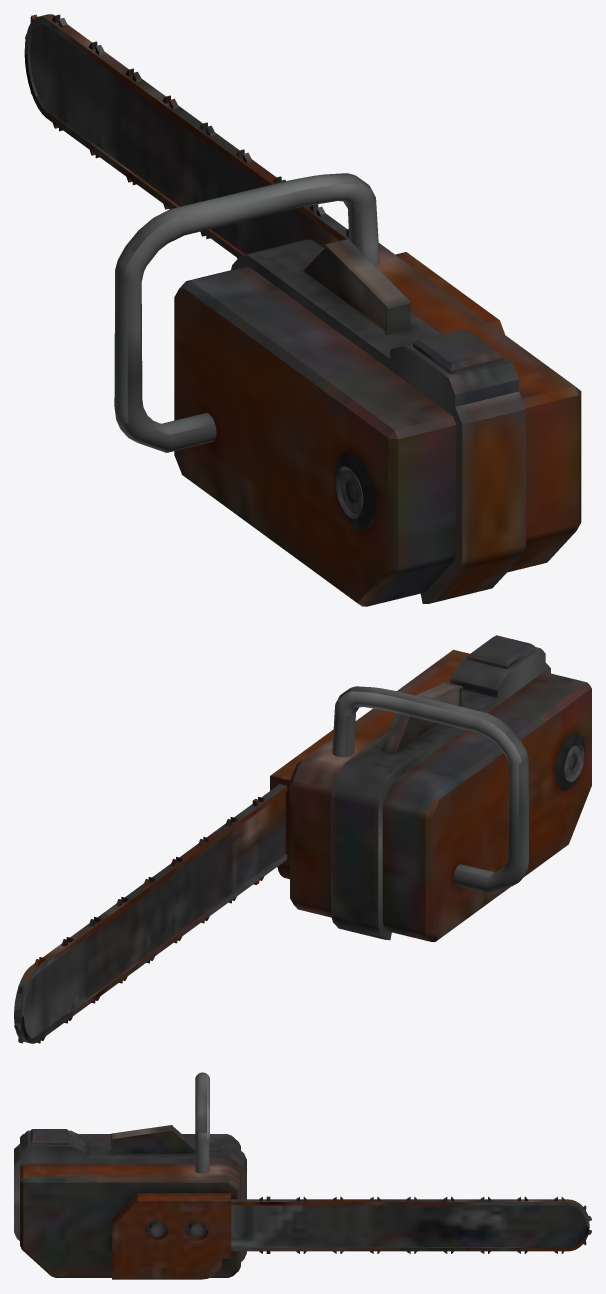
The model's file is chainsaw.fbx.
3 renders of one model, top to bottom at view 1: azimuth 30°, elevation 25°; view 2: azimuth 150°, elevation 25°; view 3: azimuth 270°, elevation 25°, orthographic. The views are drawn at different scales.
Parts seen in each view (by area): view 1: chainsaw; view 2: chainsaw; view 3: chainsaw.
Part boxes in pixels (box(x1,y1,x2,y2)): chainsaw: box(24, 14, 581, 606); chainsaw: box(14, 635, 591, 1043); chainsaw: box(14, 1072, 591, 1279).
Bounding box in the file's own units: 31.19 × 28.93 × 98.03.
